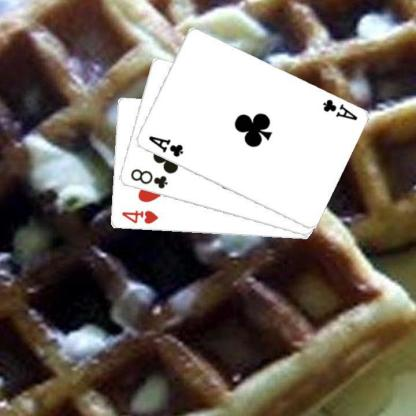4H: (119, 208, 159, 225)
8C: (128, 166, 168, 190)
AC: (320, 96, 358, 122), (146, 133, 184, 158)
